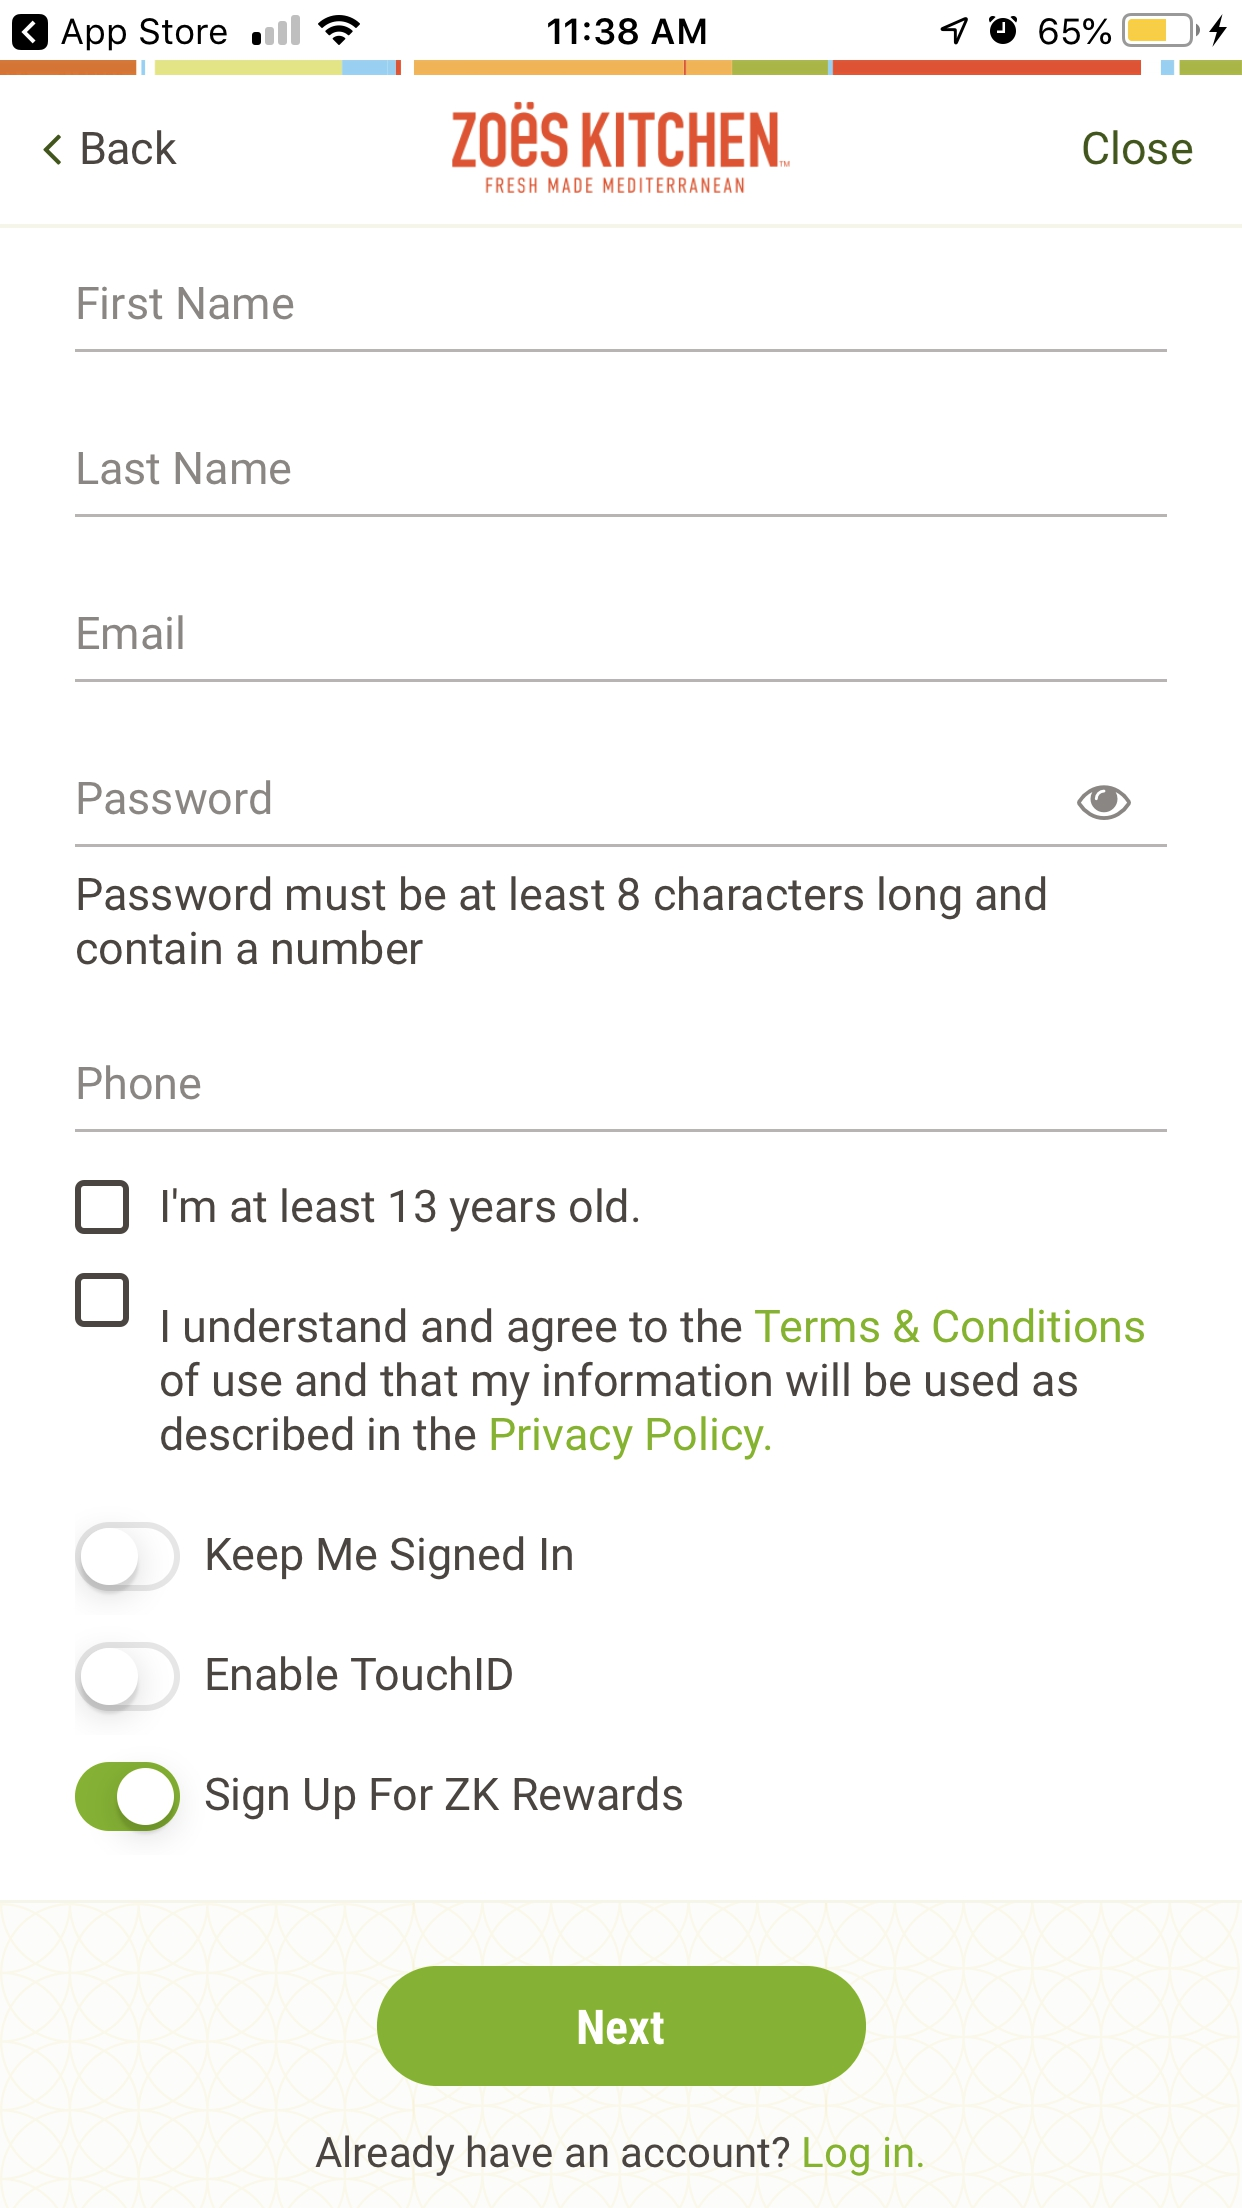CheckedTextView: (76, 1272, 1146, 1460), (74, 1180, 638, 1234)
EditText: (74, 779, 1168, 849), (74, 616, 1168, 684), (76, 1065, 1168, 1133), (74, 287, 1168, 353), (74, 452, 1168, 519)
Icon: (1078, 786, 1131, 820), (42, 133, 64, 165)
Image: (450, 102, 792, 196)
Switch: (74, 1521, 182, 1592), (74, 1641, 182, 1712), (74, 1761, 182, 1832)
Text: (162, 1307, 1146, 1460), (76, 875, 1046, 966), (315, 2134, 924, 2178), (206, 1776, 684, 1821), (162, 1187, 638, 1231), (206, 1535, 573, 1582), (206, 1654, 514, 1692), (77, 287, 294, 321), (77, 452, 291, 485), (77, 779, 271, 816), (1081, 129, 1193, 165), (77, 616, 183, 651), (82, 130, 177, 167)
TextButton: (378, 1965, 867, 2087)
UpperTaskBar: (2, 2, 1242, 49)
